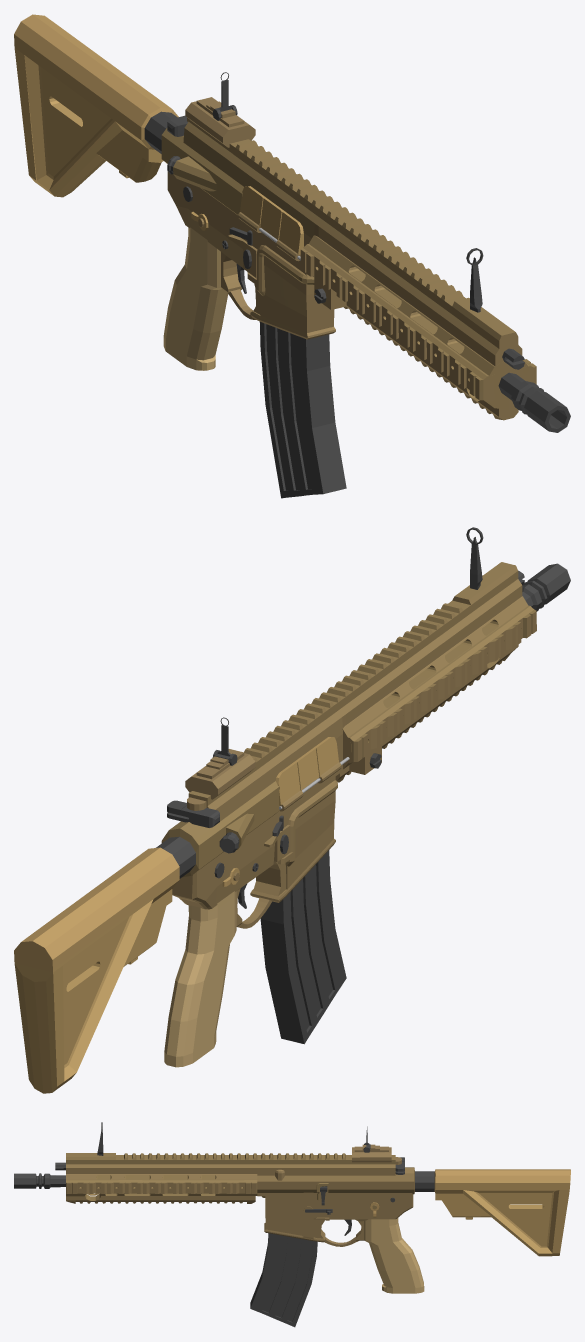
Rendered from low_poly_heckler__koch_hk416_a5 (1).glb.
3 renders of one model, top to bottom at view 1: azimuth 30°, elevation 25°; view 2: azimuth 150°, elevation 25°; view 3: azimuth 270°, elevation 25°, orthographic. The views are drawn at different scales.
Parts seen in each view (by area): view 1: Cube.022; view 2: Cube.022; view 3: Cube.022.
Part boxes in pixels (bbox=[...]): Cube.022: bbox=[14, 14, 570, 498]; Cube.022: bbox=[14, 527, 570, 1093]; Cube.022: bbox=[14, 1122, 570, 1327].
Bounding box in the file's own units: 0.0379 × 0.2165 × 0.5425.
Materials: 1 (1 with a texture image).
